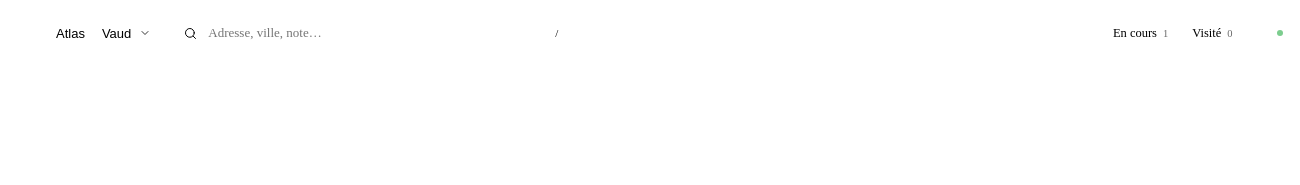
TopBar profile chooser › shows profile loading failures visibly
The image size is (1300, 185).
Click the button with aria-label "choisir un profil": (89, 33) [16,16,161,50]
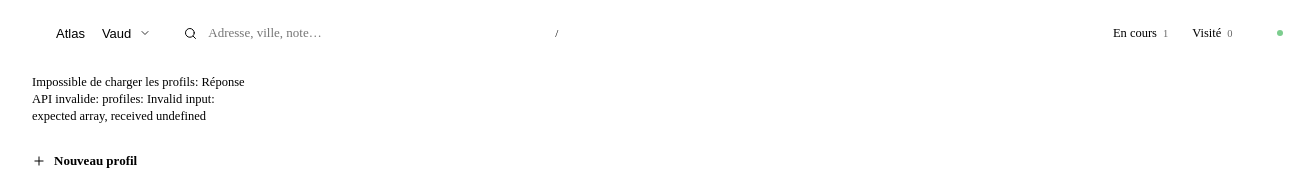
Now the text "Impossible de charger les profils" is shown, box [32,75,202,89]
